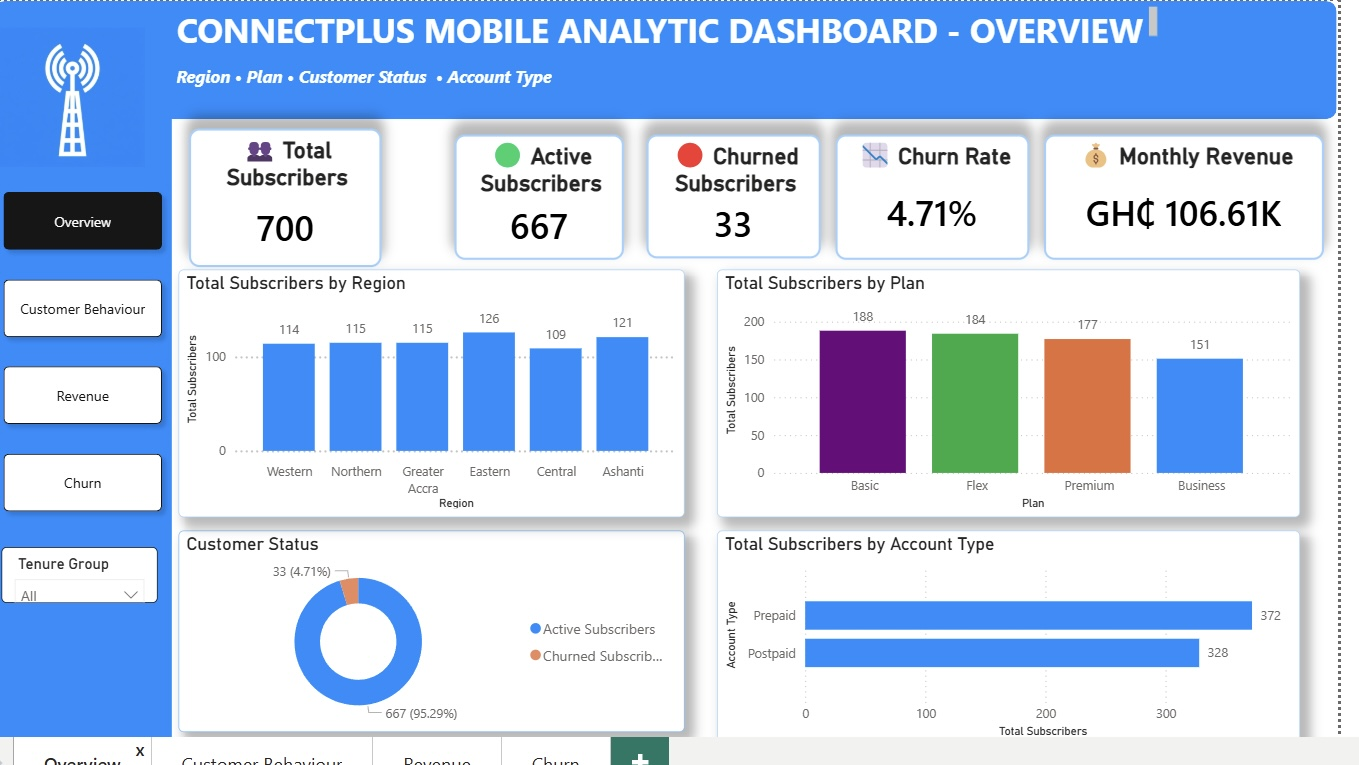

The page's visual inventory and layout, read from the dashboard file:
{"tool":"powerbi","page":{"name":"Overview","canvas":[1280,720],"ordinal":0},"visuals":[{"type":"shape","box":[0,0,1278.8,112.5],"z":0},{"type":"textbox","box":[169,0,944.5,45],"z":1000},{"type":"textbox","box":[169,55.8,431.1,41.9],"z":2000},{"type":"cardVisual","title":"👥 Total Subscribers","fields":{"Data":["Regions.Total Subscribers"]},"box":[186.1,121,183,131.8],"z":3000},{"type":"cardVisual","title":"🔴 Churned Subscribers","fields":{"Data":["Regions.Churned Subscribers"]},"box":[621.9,127.2,165.9,117.9],"z":4000},{"type":"cardVisual","title":"💰 Monthly Revenue","fields":{"Data":["Regions.Total Monthly Revenue"]},"box":[1000.3,127.2,266.8,119.4],"z":5000},{"type":"cardVisual","title":"🟢 Active Subscribers","fields":{"Data":["Regions.Active Subscribers"]},"box":[438.9,127.2,161.3,119.4],"z":6000},{"type":"cardVisual","title":"📉 Churn Rate","fields":{"Data":["Regions.Churn Rate"]},"box":[801.8,127.2,184.6,119.4],"z":7000},{"type":"donutChart","title":"Customer Status","fields":{"Y":["Regions.Active Subscribers","Regions.Churned Subscribers"]},"box":[175.3,504,482.3,192.3],"z":8000},{"type":"clusteredColumnChart","fields":{"Category":["Regions.Region"],"Y":["Regions.Total Subscribers"]},"box":[175.3,255.9,482.3,235.7],"z":9000},{"type":"clusteredColumnChart","fields":{"Category":["Plans.Plan"],"Y":["Regions.Total Subscribers"]},"box":[688.6,255.9,555.2,235.7],"z":10000},{"type":"clusteredBarChart","fields":{"Category":["Subscribers_RAW.Account Type"],"Y":["Regions.Total Subscribers"]},"box":[688.6,504,555.2,204.7],"z":11000},{"type":"shape","box":[0,98.4,169.6,607.2],"z":12000},{"type":"pageNavigator","box":[0,172.6,169.6,324],"z":13000},{"type":"image","box":[6.1,12.1,137.8,160.5],"z":14000},{"type":"slicer","fields":{"Values":["Subscribers_RAW.Tenure Group"]},"box":[6.7,520,148.3,53.3],"z":15000}]}

Visuals, with their boxes on the page's 1280x720 design canvas (x1, y1, x2, y2). These are canvas units, not pixel positions in the 1359x765 screenshot, which may show the page scaled, cropped or inside an application window:
shape: {"x1": 0, "y1": 0, "x2": 1279, "y2": 112}
textbox: {"x1": 169, "y1": 0, "x2": 1114, "y2": 45}
textbox: {"x1": 169, "y1": 56, "x2": 600, "y2": 98}
"👥 Total Subscribers" cardVisual: {"x1": 186, "y1": 121, "x2": 369, "y2": 253}
"🔴 Churned Subscribers" cardVisual: {"x1": 622, "y1": 127, "x2": 788, "y2": 245}
"💰 Monthly Revenue" cardVisual: {"x1": 1000, "y1": 127, "x2": 1267, "y2": 247}
"🟢 Active Subscribers" cardVisual: {"x1": 439, "y1": 127, "x2": 600, "y2": 247}
"📉 Churn Rate" cardVisual: {"x1": 802, "y1": 127, "x2": 986, "y2": 247}
"Customer Status" donutChart: {"x1": 175, "y1": 504, "x2": 658, "y2": 696}
clusteredColumnChart - Regions.Region x Regions.Total Subscribers: {"x1": 175, "y1": 256, "x2": 658, "y2": 492}
clusteredColumnChart - Plans.Plan x Regions.Total Subscribers: {"x1": 689, "y1": 256, "x2": 1244, "y2": 492}
clusteredBarChart - Subscribers_RAW.Account Type x Regions.Total Subscribers: {"x1": 689, "y1": 504, "x2": 1244, "y2": 709}
shape: {"x1": 0, "y1": 98, "x2": 170, "y2": 706}
pageNavigator: {"x1": 0, "y1": 173, "x2": 170, "y2": 497}
image: {"x1": 6, "y1": 12, "x2": 144, "y2": 173}
slicer - Subscribers_RAW.Tenure Group: {"x1": 7, "y1": 520, "x2": 155, "y2": 573}
